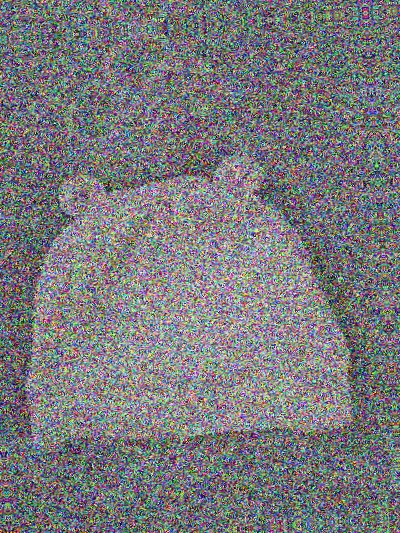Hat: (14, 133, 366, 466)
